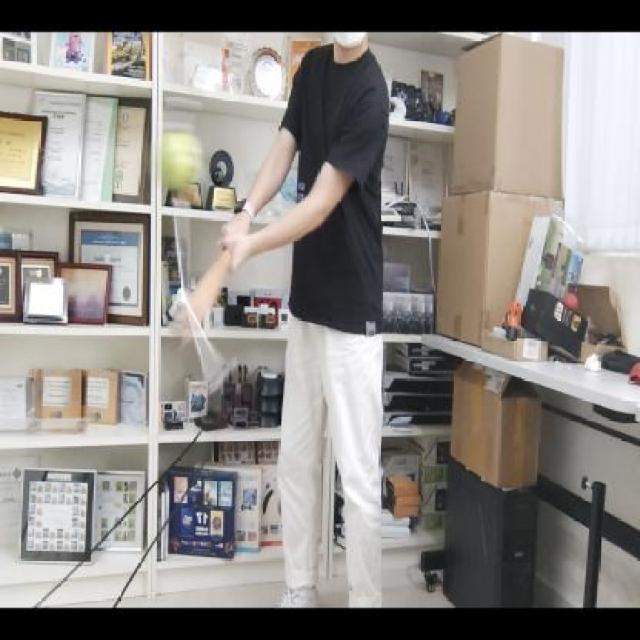baseball: (157, 126, 205, 192)
